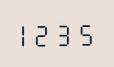five: (75, 19, 93, 46)
one: (18, 20, 36, 47)
three: (56, 20, 74, 46)
two: (37, 20, 55, 47)
